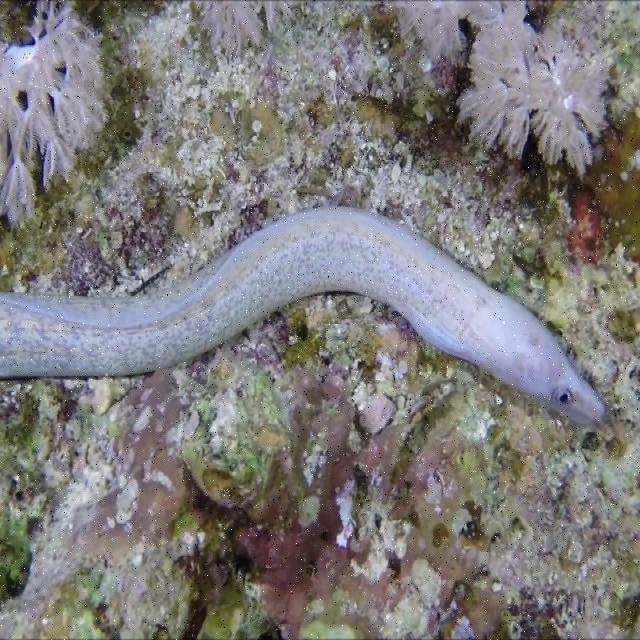aquatic plants: (383, 1, 609, 178), (0, 3, 109, 231), (193, 0, 297, 61)
fish: (0, 207, 607, 428)
